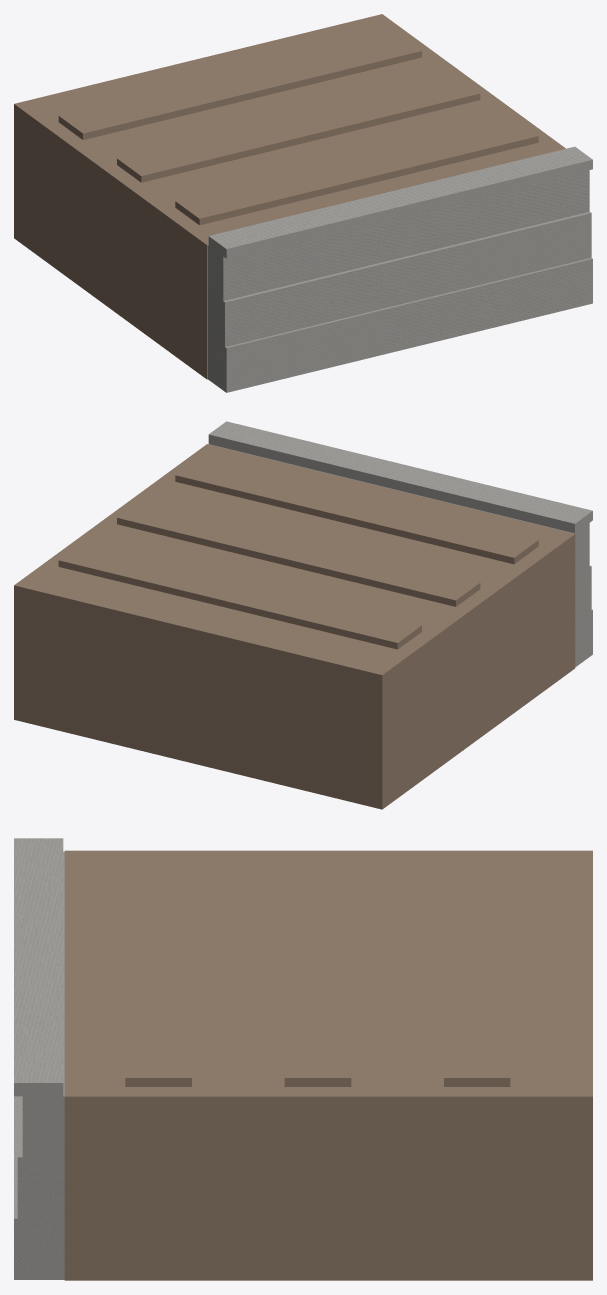
File: andean-terraces-and-stone-village-terrace-wall-mid-e99051dd__38220.glb
3 renders of one model, top to bottom at view 1: azimuth 30°, elevation 25°; view 2: azimuth 150°, elevation 25°; view 3: azimuth 270°, elevation 25°, orthographic. The views are drawn at different scales.
Visible parts, largest first — view 1: terrace-wall-mid-earth, terrace-wall-mid-stone; view 2: terrace-wall-mid-earth, terrace-wall-mid-stone; view 3: terrace-wall-mid-earth, terrace-wall-mid-stone.
Boxes of the visible parts, x1,y1,x2,y2 form: terrace-wall-mid-earth: (14, 14, 565, 379); terrace-wall-mid-stone: (208, 146, 592, 392); terrace-wall-mid-earth: (14, 444, 575, 809); terrace-wall-mid-stone: (208, 421, 592, 666); terrace-wall-mid-earth: (64, 850, 592, 1280); terrace-wall-mid-stone: (14, 838, 64, 1279).
Bounding box in the file's own units: 4.02 × 1.5 × 4.
Materials: 2 (1 with a texture image).
